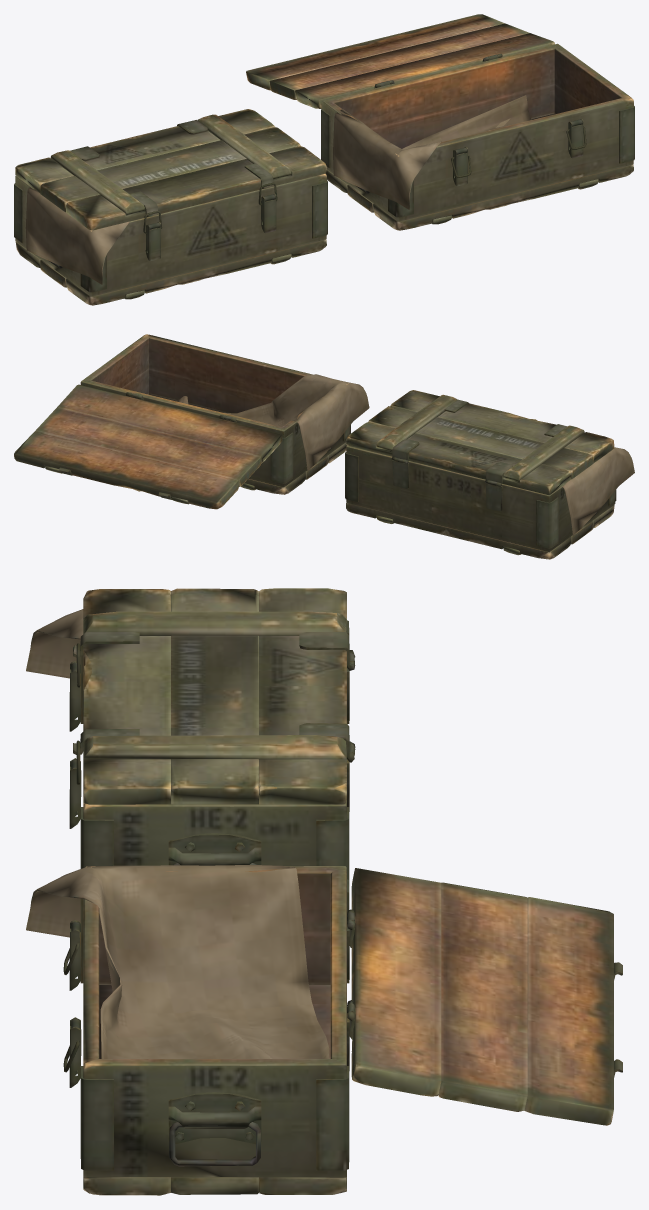
The model's file is old_military_crate.glb.
3 renders of one model, top to bottom at view 1: azimuth 30°, elevation 25°; view 2: azimuth 150°, elevation 25°; view 3: azimuth 270°, elevation 25°, orthographic. The views are drawn at different scales.
Parts seen in each view (by area): view 1: old_military_crate_b, old_military_crate_lid_a, old_military_crate_a, old_military_crate_lid_b, old_military_crate_cloth_b, old_military_crate_cloth_a, old_military_crate_latch_a, old_military_crate_latch_b; view 2: old_military_crate_lid_b, old_military_crate_lid_a, old_military_crate_a, old_military_crate_b, old_military_crate_cloth_b, old_military_crate_cloth_a; view 3: old_military_crate_lid_a, old_military_crate_lid_b, old_military_crate_b, old_military_crate_cloth_b, old_military_crate_a, old_military_crate_cloth_a, old_military_crate_latch_a, old_military_crate_latch_b.
Boxes of the visible parts, x1,y1,x2,y2 form: old_military_crate_b: (321, 43, 634, 230); old_military_crate_lid_a: (15, 109, 326, 230); old_military_crate_a: (14, 173, 327, 305); old_military_crate_lid_b: (246, 14, 554, 108); old_military_crate_cloth_b: (333, 95, 531, 209); old_military_crate_cloth_a: (25, 187, 129, 284); old_military_crate_latch_a: (145, 194, 276, 261); old_military_crate_latch_b: (453, 119, 583, 186); old_military_crate_lid_b: (14, 384, 282, 509); old_military_crate_lid_a: (346, 390, 614, 495); old_military_crate_a: (345, 445, 616, 559); old_military_crate_b: (80, 334, 350, 494); old_military_crate_cloth_b: (176, 374, 369, 470); old_military_crate_cloth_a: (562, 447, 634, 535); old_military_crate_lid_a: (73, 588, 355, 805); old_military_crate_lid_b: (347, 868, 622, 1125); old_military_crate_b: (80, 866, 354, 1195); old_military_crate_cloth_b: (26, 865, 329, 1058); old_military_crate_a: (80, 620, 355, 886); old_military_crate_cloth_a: (26, 609, 83, 678); old_military_crate_latch_a: (69, 661, 81, 828); old_military_crate_latch_b: (69, 920, 81, 1087).
Size of the model in its own units: 1.81 by 0.3009 by 0.9744.
Materials: 1 (1 with a texture image).
